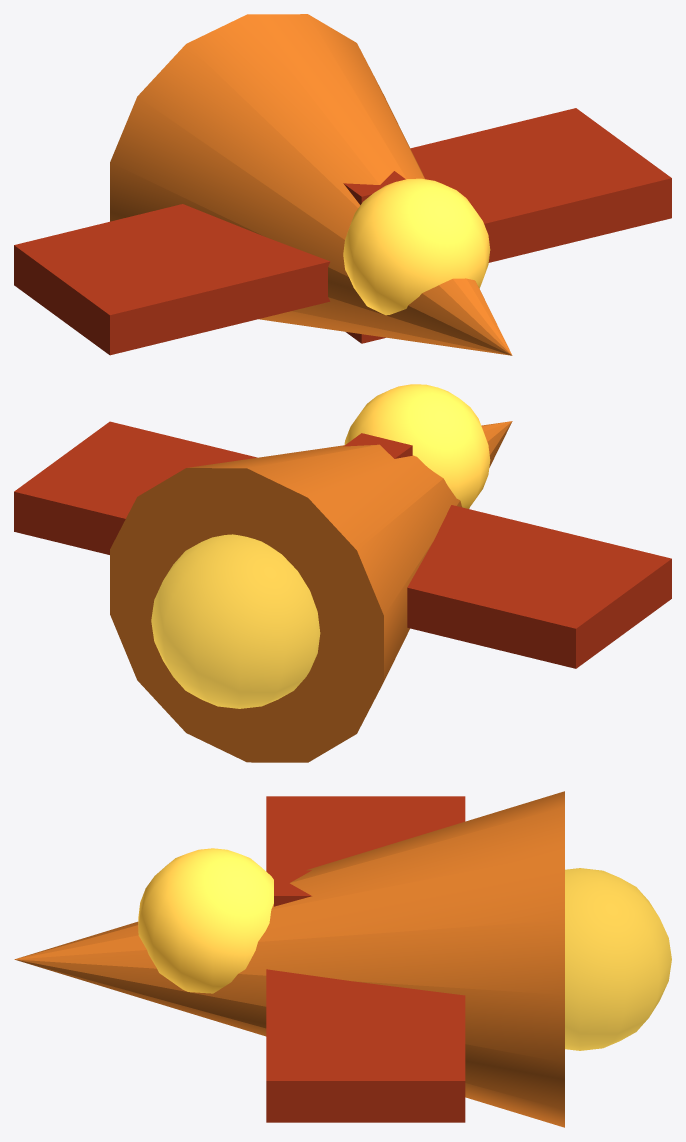
File: boss.glb
3 views of the same model, one above another, from view 1: azimuth 30°, elevation 25°; view 2: azimuth 150°, elevation 25°; view 3: azimuth 270°, elevation 25° (orthographic). The views are drawn at different scales.
Size of the model in its own units: 4.4 by 2.2 by 4.3.
